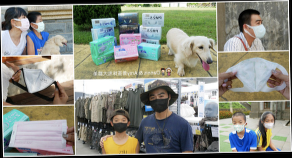with_mask: (148, 91, 170, 113), (248, 17, 267, 39), (112, 115, 128, 134), (15, 15, 30, 31), (232, 118, 246, 133), (33, 17, 45, 33), (263, 116, 275, 129)
